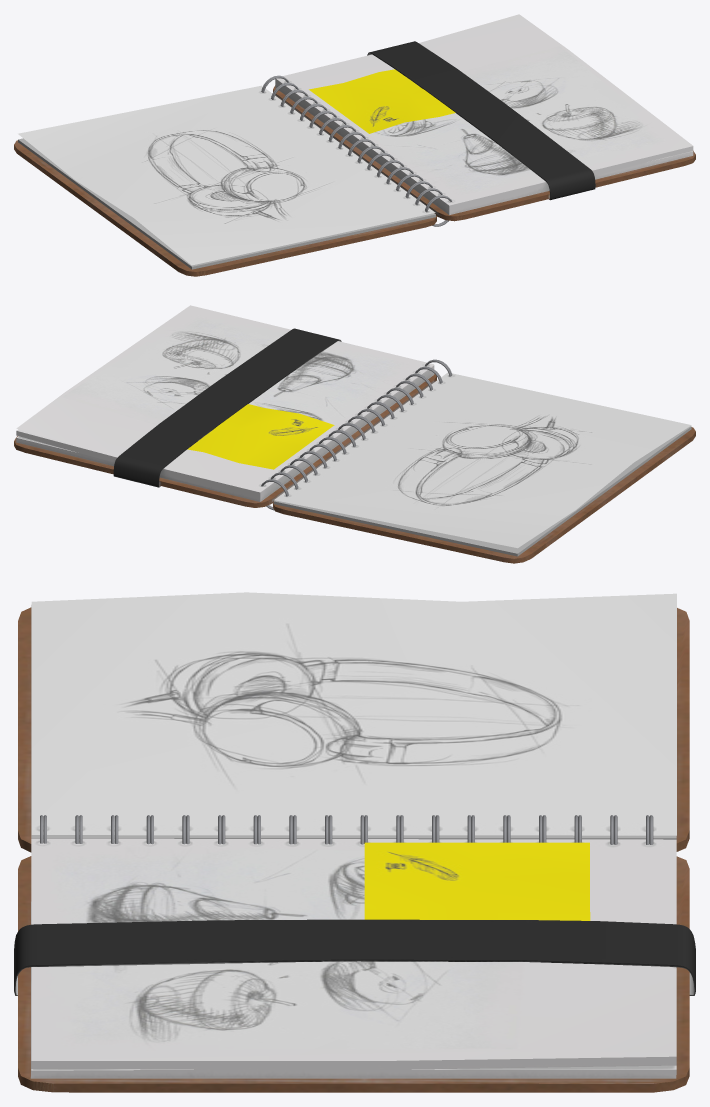
Rendered from notebook.glb.
3 renders of one model, top to bottom at view 1: azimuth 30°, elevation 25°; view 2: azimuth 150°, elevation 25°; view 3: azimuth 270°, elevation 25°, orthographic. The views are drawn at different scales.
Visible parts, largest first — view 1: notebook_03_low, notebook_01_low, notebook_02_low, notebook_04_low; view 2: notebook_03_low, notebook_01_low, notebook_02_low, notebook_04_low; view 3: notebook_03_low, notebook_01_low, notebook_02_low, notebook_04_low.
Part boxes in pixels (x1,y1,x2,y2): notebook_03_low: (14, 14, 695, 276); notebook_01_low: (261, 41, 595, 226); notebook_02_low: (18, 79, 693, 269); notebook_04_low: (309, 69, 455, 133); notebook_03_low: (14, 305, 695, 563); notebook_01_low: (113, 328, 452, 510); notebook_02_low: (16, 365, 691, 556); notebook_04_low: (187, 404, 334, 469); notebook_03_low: (18, 592, 689, 1092); notebook_01_low: (14, 815, 695, 995); notebook_02_low: (30, 605, 676, 1078); notebook_04_low: (364, 842, 590, 920).
Size of the model in its own units: 342 by 19.1 by 212.
1 material, 1 textured.
